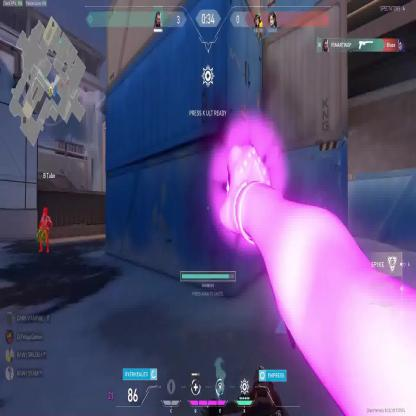enemy: (37, 206, 52, 252)
enemy_head: (43, 207, 48, 216)
